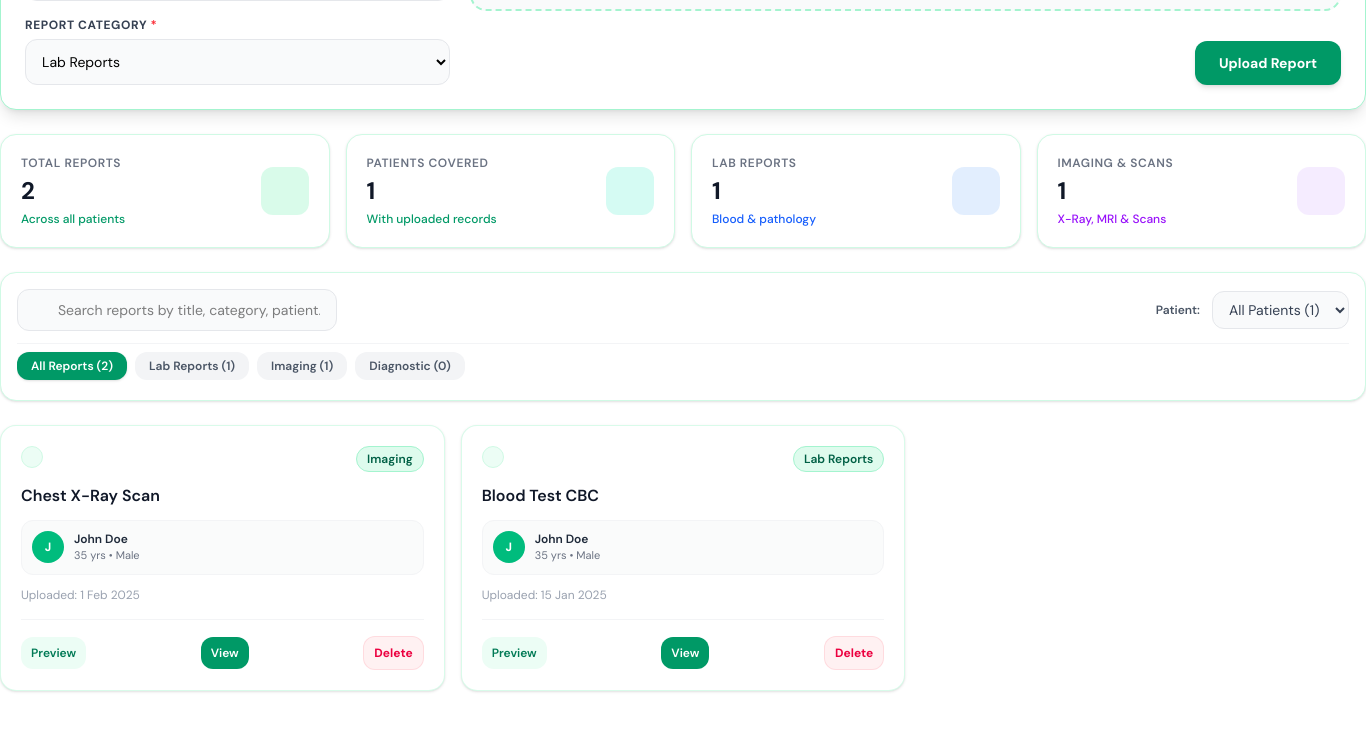
it: ReportsTab Component › opens report preview modal when Preview is clicked
(page scrolled)
Expected: the heading "Blood Test CBC" is shown, [482, 485, 599, 506]
Click the button "Preview" below "1 Feb 2025". click: (54,652)
box: [21, 636, 86, 668]
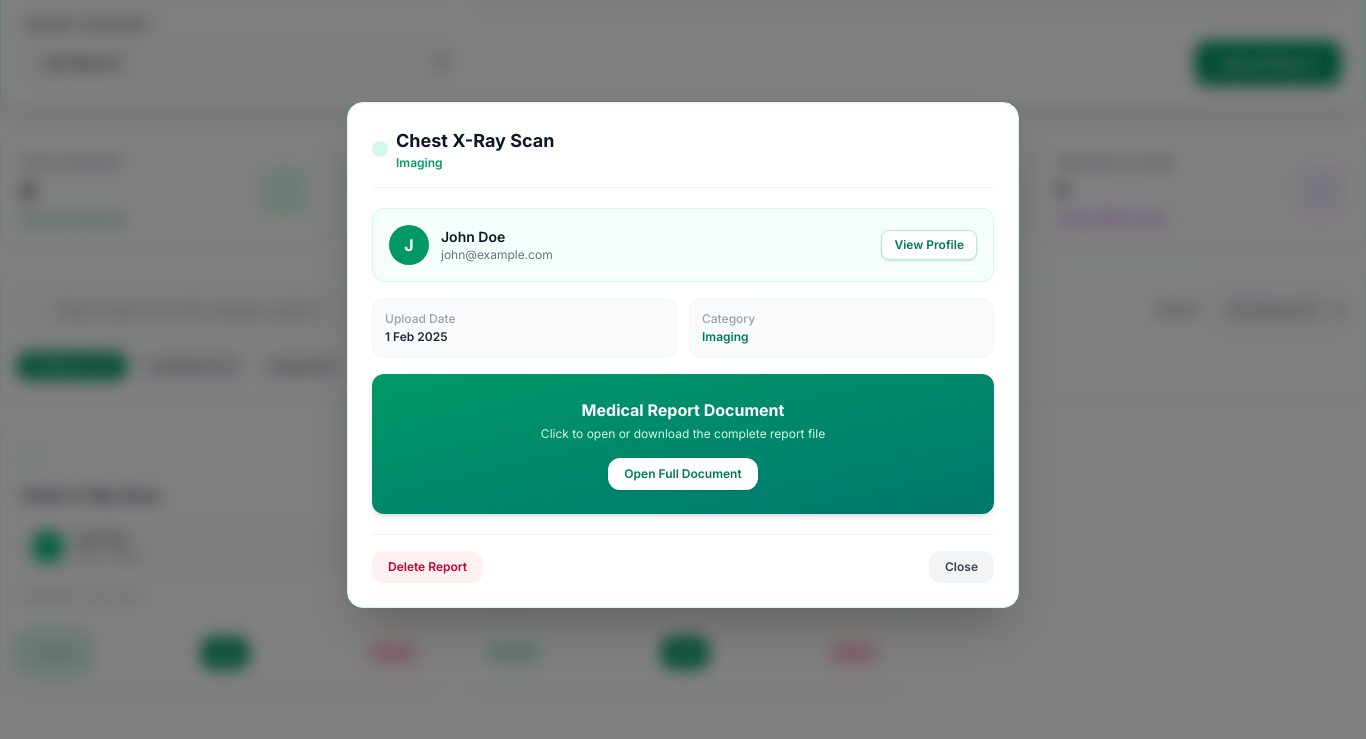
Expected: the heading "Medical Report Document" is shown, [582, 400, 784, 420]
Expected: the link "Open Full Document" is shown, [608, 458, 758, 490]
